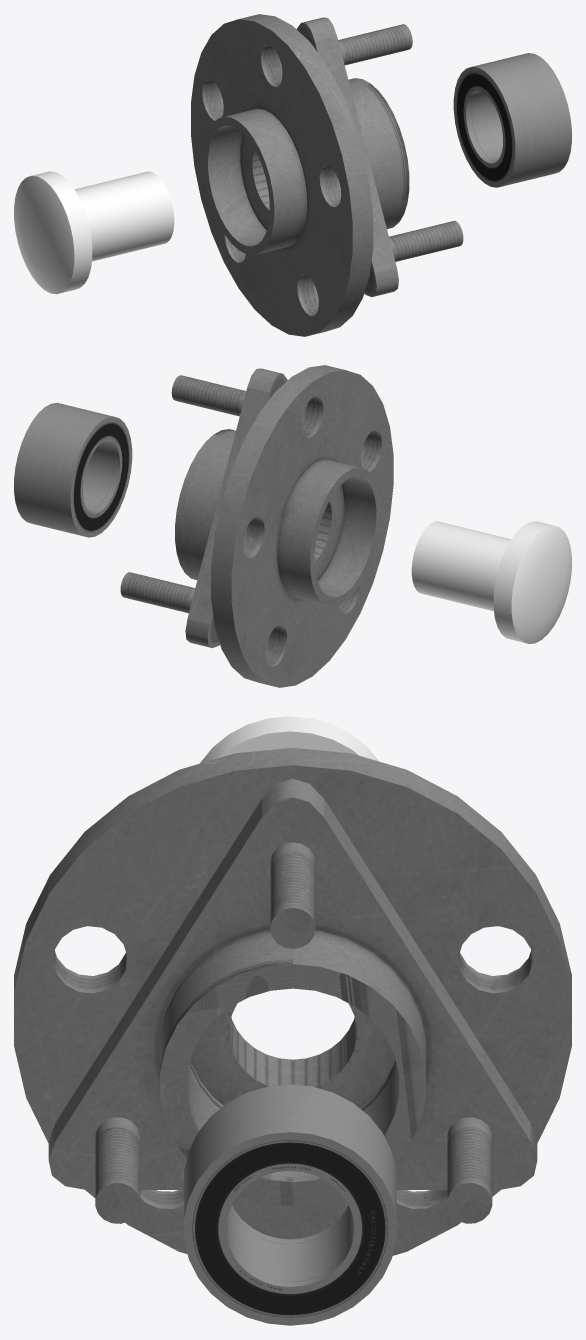
Rendered from hubMain.glb.
3 renders of one model, top to bottom at view 1: azimuth 30°, elevation 25°; view 2: azimuth 150°, elevation 25°; view 3: azimuth 270°, elevation 25°, orthographic. The views are drawn at different scales.
Parts seen in each view (by area): view 1: piastaPrzod_1(0), zaslepkaZwrotnicaTyl_1(0), lozyskoZwrotnicyPrzod_1(0); view 2: piastaPrzod_1(0), zaslepkaZwrotnicaTyl_1(0), lozyskoZwrotnicyPrzod_1(0); view 3: piastaPrzod_1(0), lozyskoZwrotnicyPrzod_1(0), zaslepkaZwrotnicaTyl_1(0).
Boxes of the visible parts, x1,y1,x2,y2 form: piastaPrzod_1(0): [191, 14, 463, 336]; zaslepkaZwrotnicaTyl_1(0): [14, 171, 174, 294]; lozyskoZwrotnicyPrzod_1(0): [453, 53, 571, 187]; piastaPrzod_1(0): [120, 365, 393, 687]; zaslepkaZwrotnicaTyl_1(0): [411, 521, 571, 643]; lozyskoZwrotnicyPrzod_1(0): [14, 402, 132, 537]; piastaPrzod_1(0): [14, 748, 571, 1255]; lozyskoZwrotnicyPrzod_1(0): [184, 1084, 396, 1325]; zaslepkaZwrotnicaTyl_1(0): [200, 716, 378, 763].
Size of the model in its own units: 0.0078 by 0.00435 by 0.00433.
Materials: 3 (2 with a texture image).
